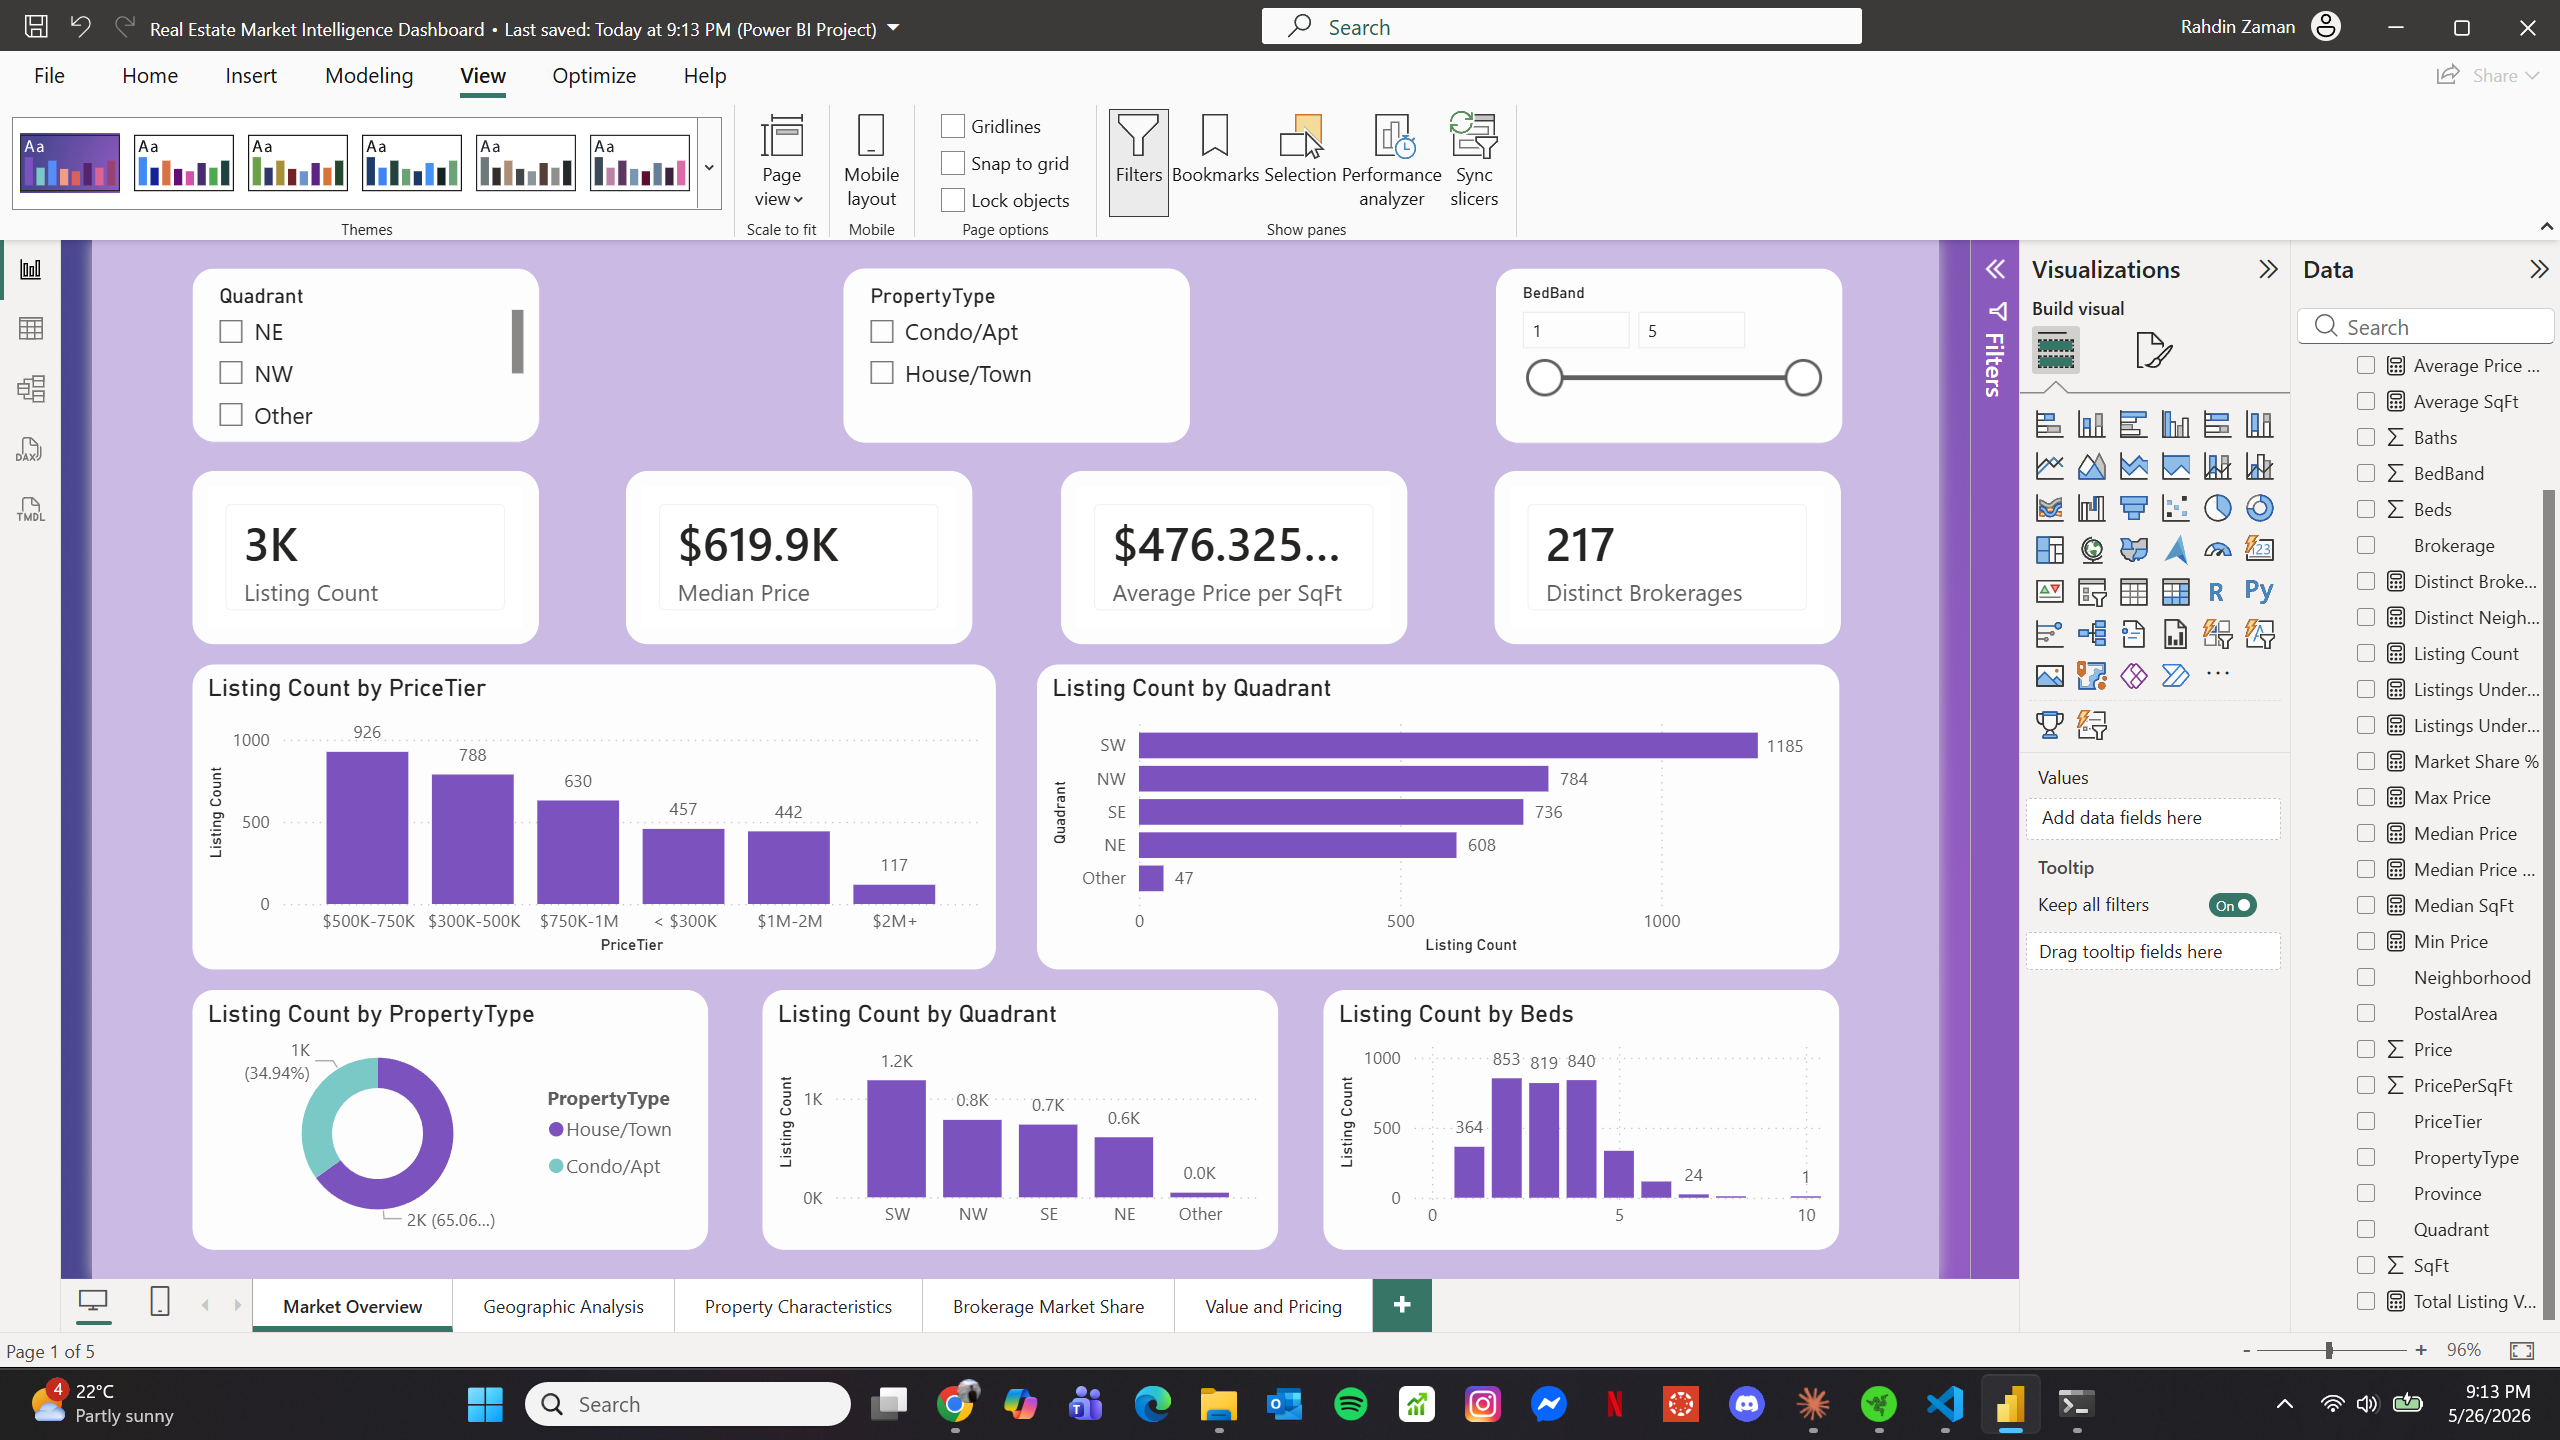

Layout of this report page (visuals, bound fields, positions):
{"tool":"powerbi","page":{"name":"Market Overview","canvas":[1280,720],"ordinal":0},"visuals":[{"type":"cardVisual","fields":{"Data":["Listings.Listing Count"]},"box":[19.5,0,276.7,141.2],"z":0},{"type":"cardVisual","fields":{"Data":["Listings.Median Price"]},"box":[296.3,4.6,300.9,136.7],"z":1000},{"type":"cardVisual","fields":{"Data":["Listings.Average Price per SqFt"]},"box":[589.1,4.6,302,136.7],"z":2000},{"type":"cardVisual","fields":{"Data":["Listings.Distinct Brokerages"]},"box":[891.1,0,331.9,141.2],"z":3000},{"type":"clusteredBarChart","fields":{"Category":["Listings.Quadrant"],"Y":["Listings.Listing Count"]},"box":[718.9,191.8,486.9,209],"z":4000},{"type":"donutChart","fields":{"Category":["Listings.PropertyType"],"Y":["Listings.Listing Count"]},"box":[43.6,465.1,357.1,180.3],"z":5000},{"type":"columnChart","fields":{"Category":["Listings.PriceTier"],"Y":["Listings.Listing Count"]},"box":[484.6,460.5,326.1,188.3],"z":6000},{"type":"clusteredColumnChart","fields":{"Category":["Listings.PriceTier"],"Y":["Listings.Listing Count"]},"box":[54,175.7,556.9,225.1],"z":7000},{"type":"columnChart","fields":{"Category":["Listings.Beds"],"Y":["Listings.Listing Count"]},"box":[847.5,461.6,419.1,187.2],"z":8000}]}

Visuals, with their boxes on the page's 1280x720 design canvas (x1, y1, x2, y2). These are canvas units, not pixel positions in the 2560x1440 screenshot, which may show the page scaled, cropped or inside an application window:
cardVisual - Listings.Listing Count: (20,0,296,141)
cardVisual - Listings.Median Price: (296,5,597,141)
cardVisual - Listings.Average Price per SqFt: (589,5,891,141)
cardVisual - Listings.Distinct Brokerages: (891,0,1223,141)
clusteredBarChart - Listings.Quadrant x Listings.Listing Count: (719,192,1206,401)
donutChart - Listings.PropertyType x Listings.Listing Count: (44,465,401,645)
columnChart - Listings.PriceTier x Listings.Listing Count: (485,460,811,649)
clusteredColumnChart - Listings.PriceTier x Listings.Listing Count: (54,176,611,401)
columnChart - Listings.Beds x Listings.Listing Count: (848,462,1267,649)
